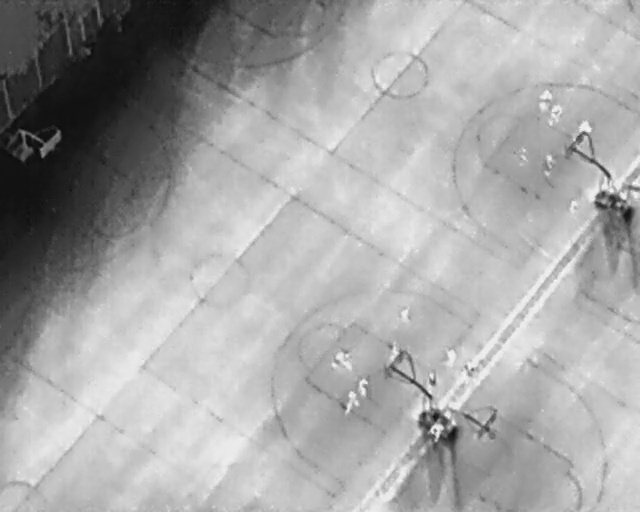Person: (339, 387, 365, 421), (328, 346, 358, 375), (544, 101, 566, 131), (573, 115, 597, 142), (424, 418, 447, 445), (459, 358, 481, 381), (538, 86, 554, 115), (439, 347, 457, 369), (541, 152, 556, 178), (388, 341, 401, 365), (357, 376, 370, 399), (398, 307, 410, 324), (426, 371, 438, 388), (568, 199, 579, 216)
